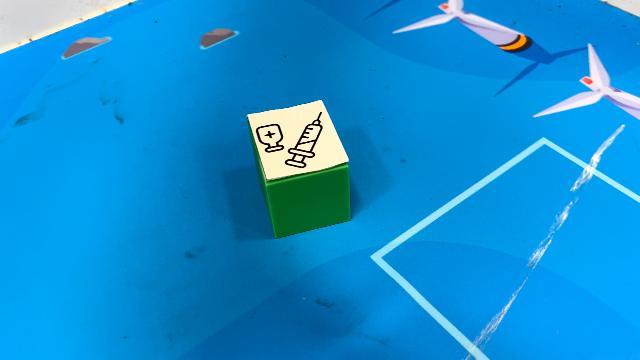syringe: (246, 100, 352, 238)
